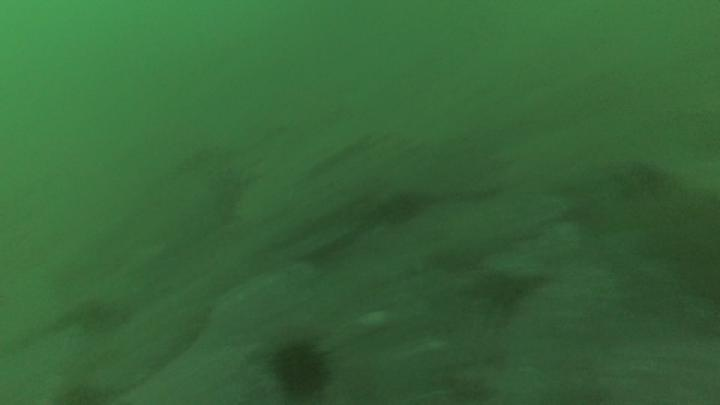echinus: (267, 335, 336, 403)
